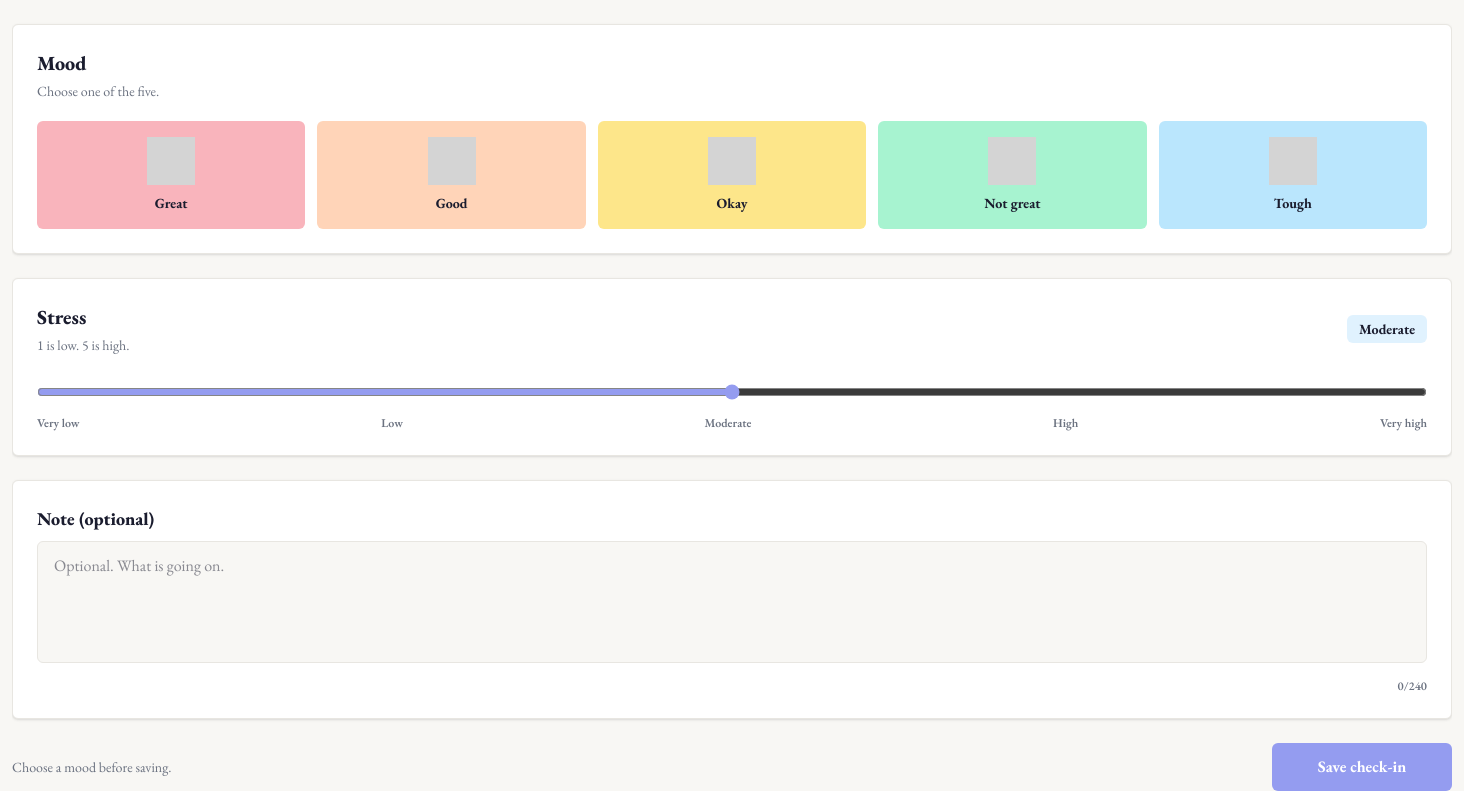
Test case: mood and stress tracking › requires the user to select a mood before saving
This screenshot has width=1464, height=791.
(page scrolled)
Click the button "Save check-in": click(1362, 767) [1272,743,1452,790]
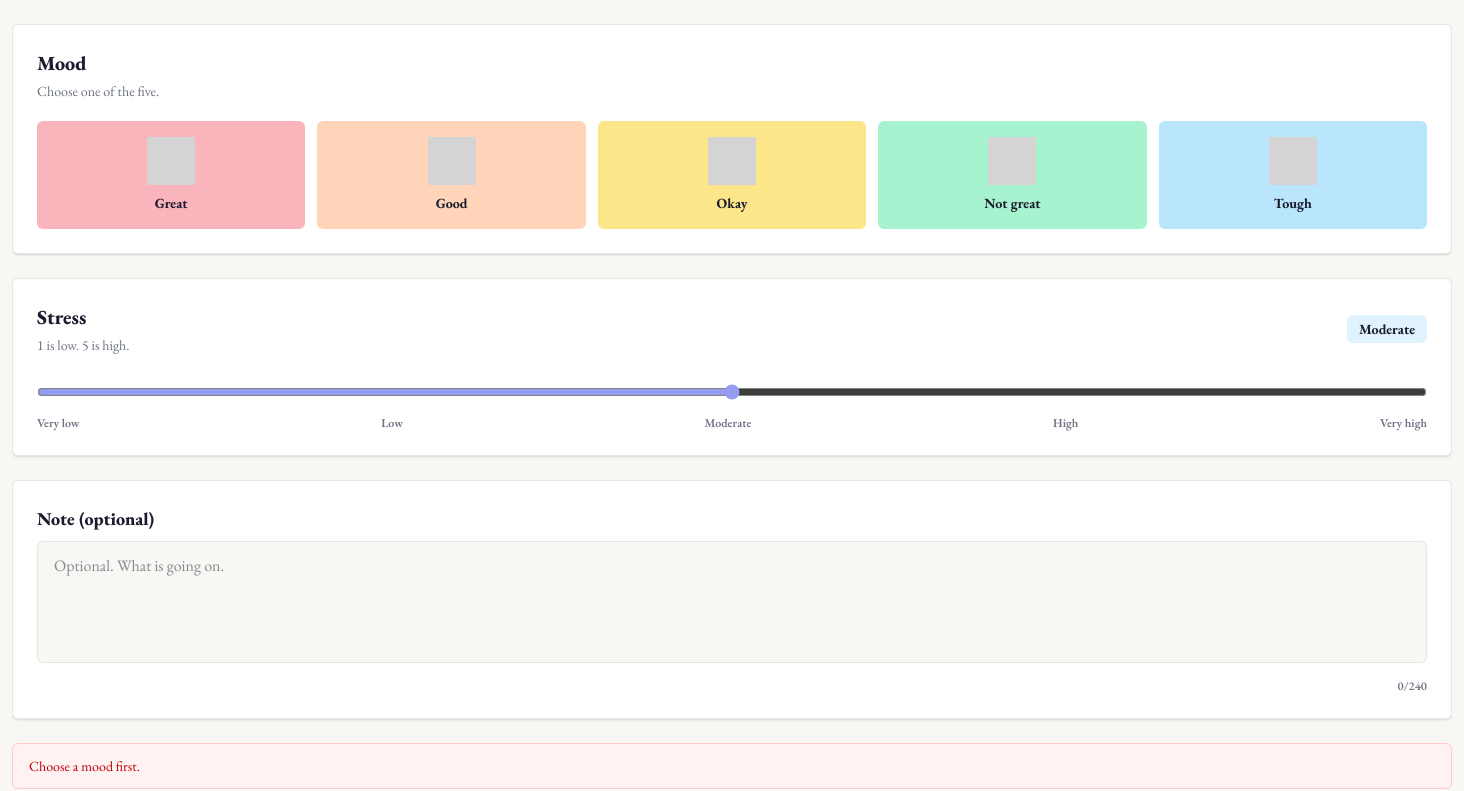
expect the text "Choose a mood first." is shown: met, box [12,743,1452,789]
